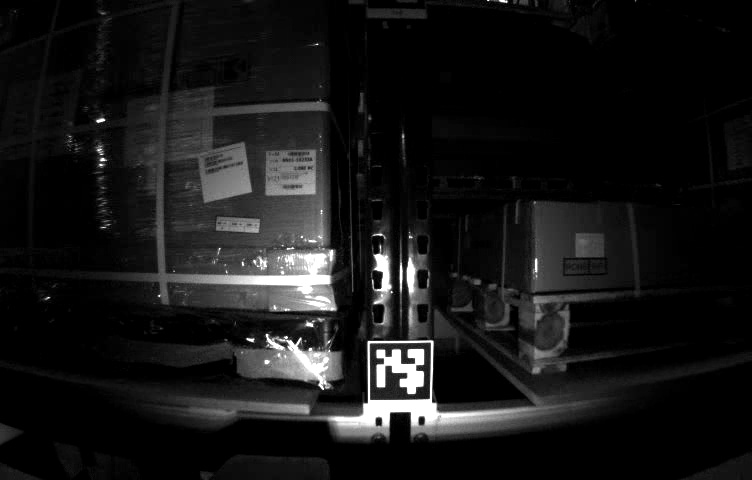True Barcode: (260, 147, 317, 201)
